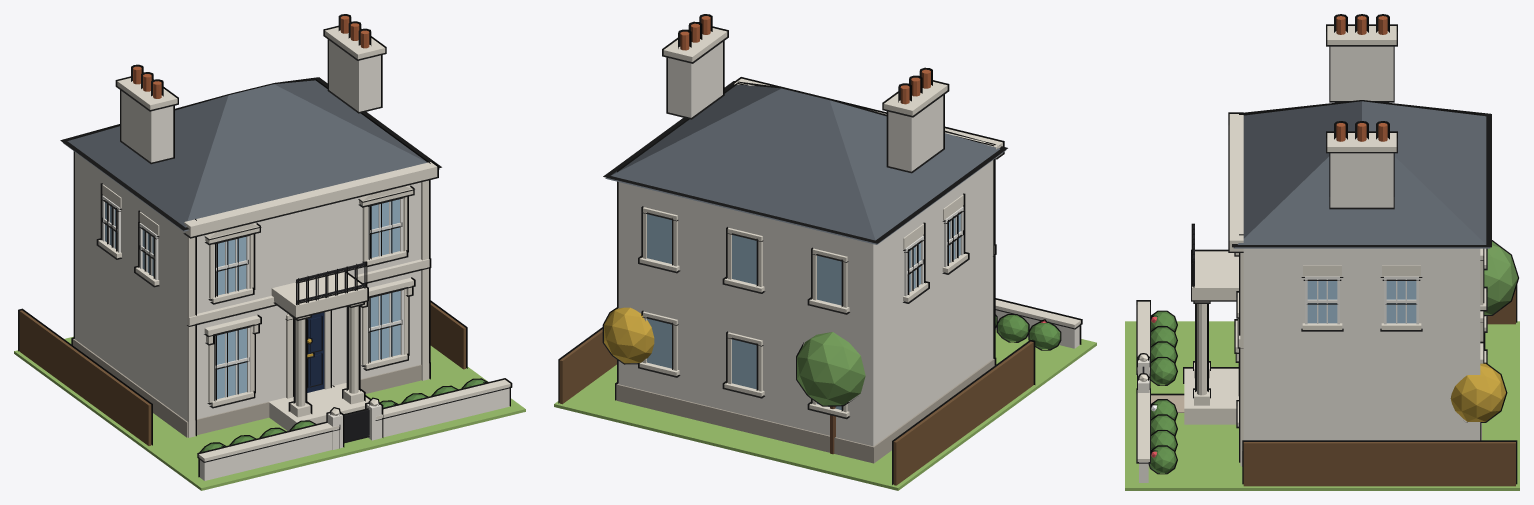
Rendered from MustakilEv_londra_villa_4.fbx.
3 views of the same model, side by side, from view 1: azimuth 30°, elevation 25°; view 2: azimuth 150°, elevation 25°; view 3: azimuth 270°, elevation 25° (orthographic). The views are drawn at different scales.
Parts seen in each view (by area): view 1: MustakilEv_londra_villa_4; view 2: MustakilEv_londra_villa_4; view 3: MustakilEv_londra_villa_4.
Part boxes in pixels (<box>): MustakilEv_londra_villa_4: <box>14,14,525,490</box>; MustakilEv_londra_villa_4: <box>554,14,1096,490</box>; MustakilEv_londra_villa_4: <box>1125,14,1519,490</box>.
Size of the model in its own units: 10 by 9.42 by 10.
